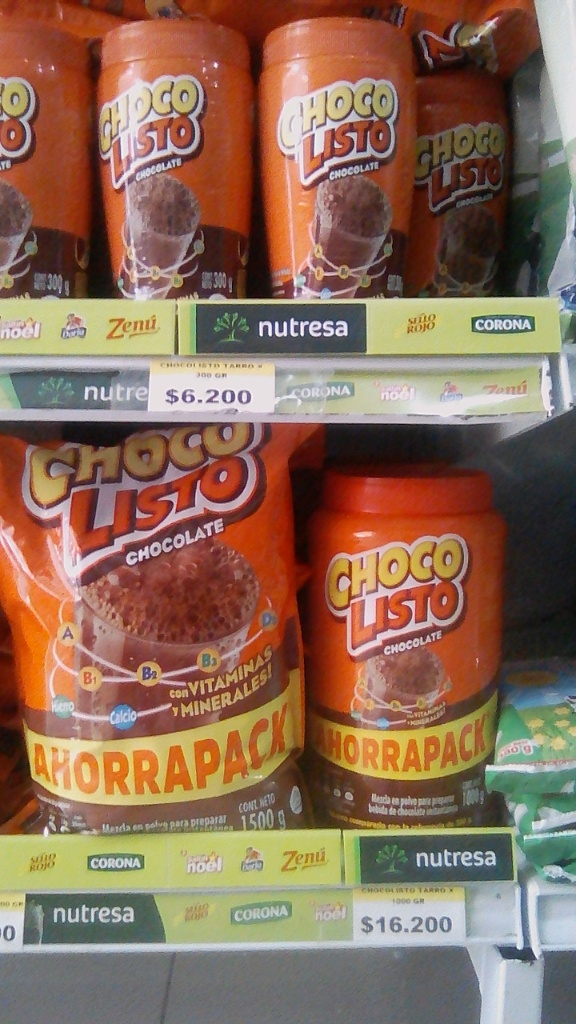COL0170103TRR00100: (300, 433, 511, 833)
